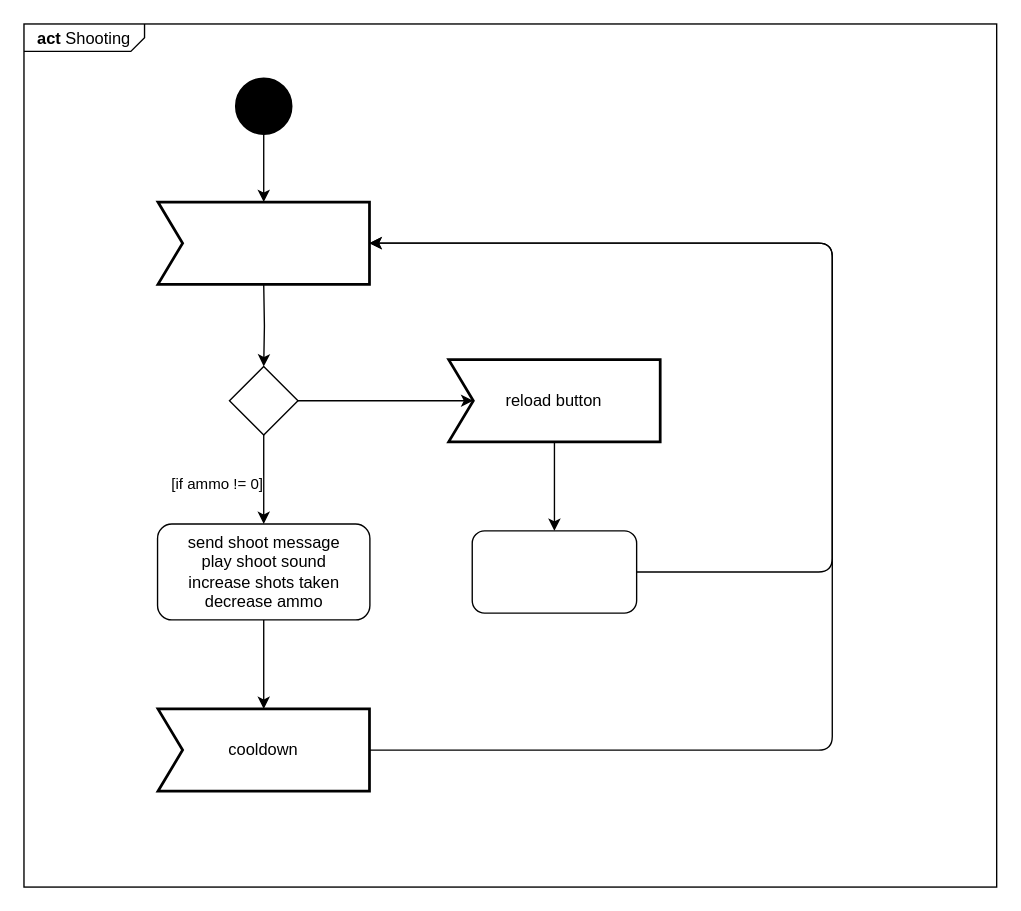
This 1021x911 diagram has some shape labels left out. The shapes that lost their labels are listed below. From the top down, each one's centre as x and y in pixels, then its label:
At (x=263, y=242): "trigger press".
At (x=554, y=571): "set ammo to max".
